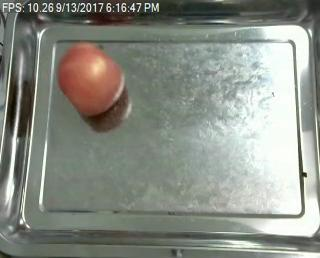apple: (56, 42, 125, 117)
